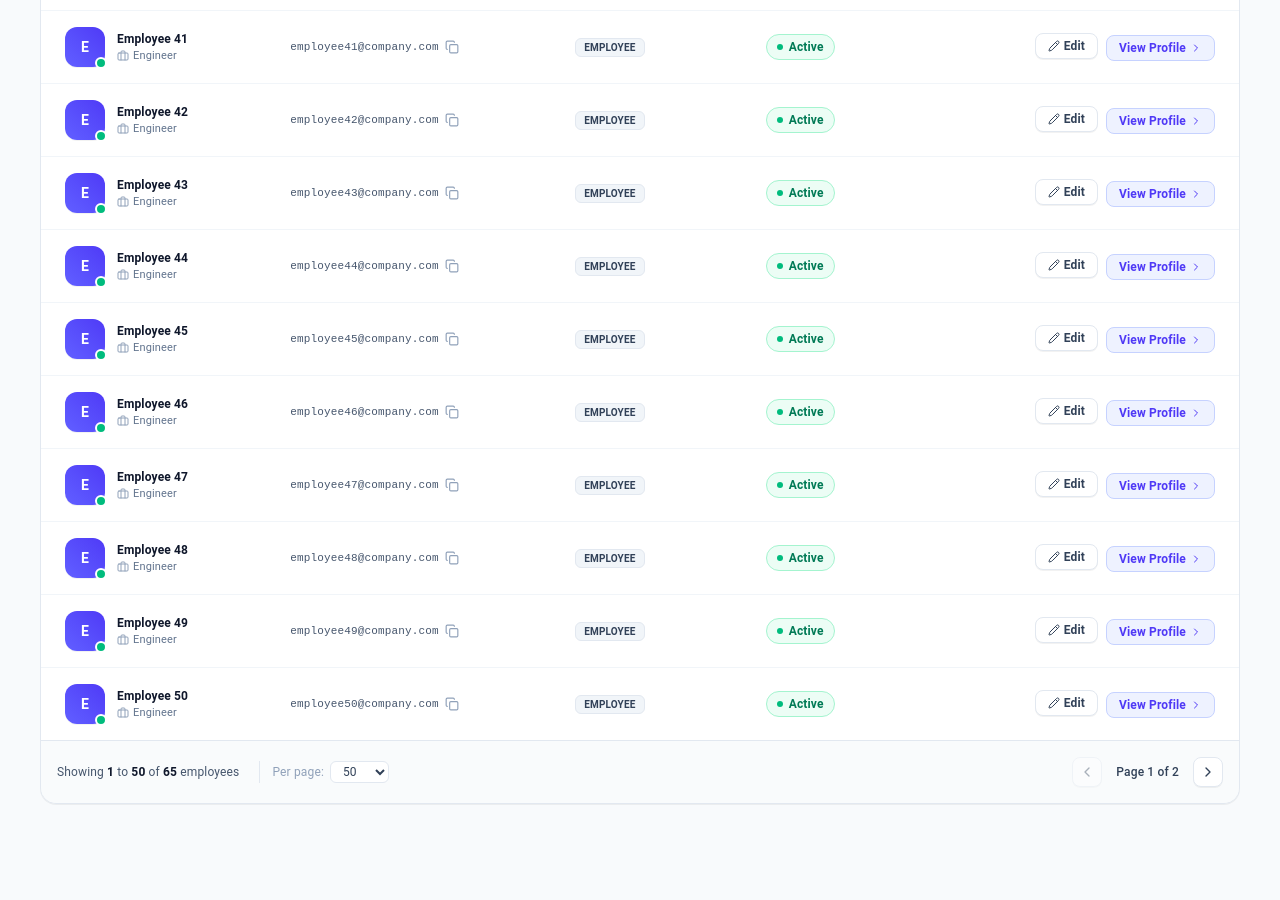
Scenario: EmployeeManagementPage Component › paginates 50 employees per page and navigates between pages
(page scrolled)
Expected: the link "Employee 50" is shown, [117,688,188,704]
Expected: the text "Page 1 of 2" is shown, [1116,765,1179,779]
Note: Click next page
Click the button named "next page": (1208, 772) [1193,757,1223,787]
(page scrolled)
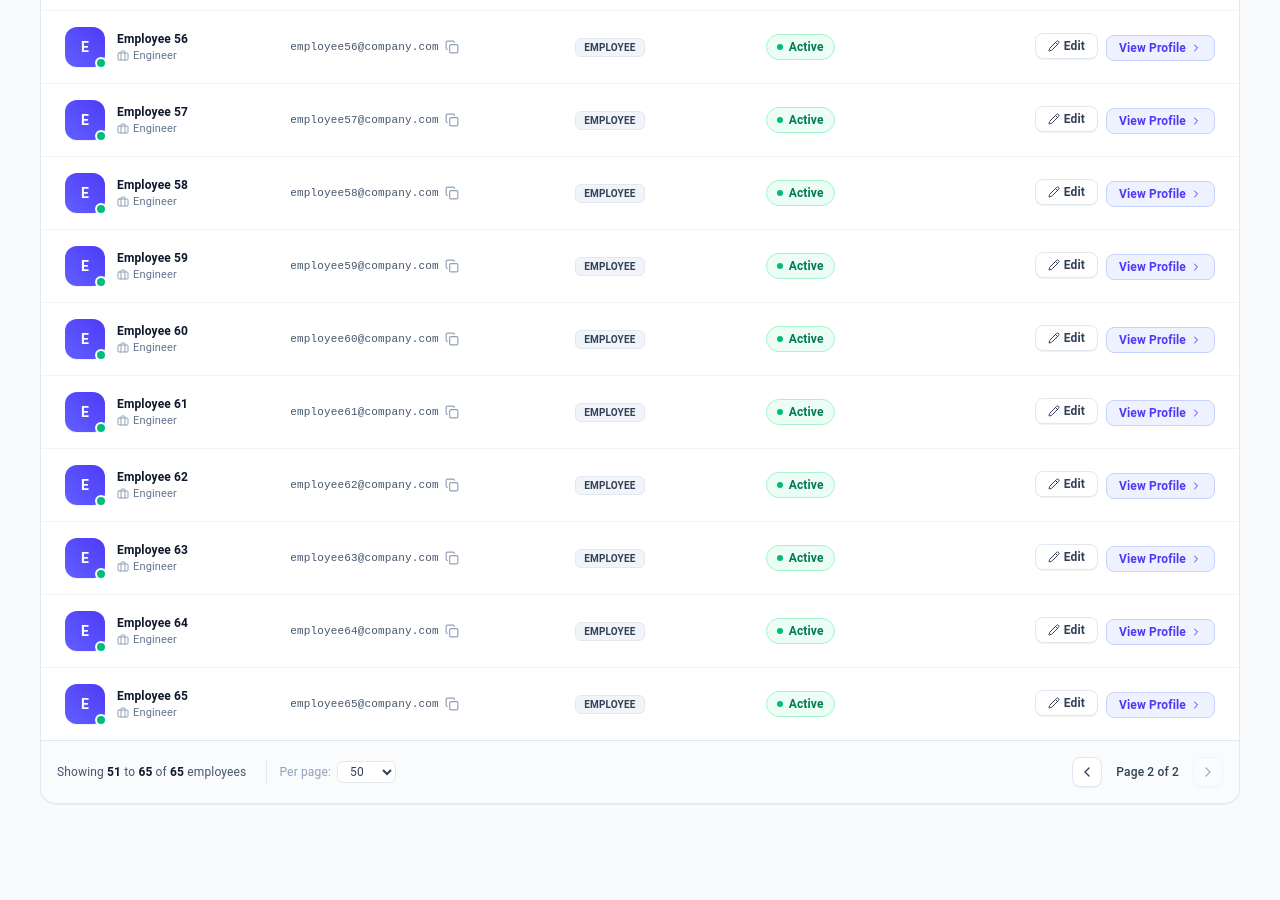
Now the text "Page 2 of 2" is shown, box [1116,765,1179,779]
Now the link "Employee 65" is shown, box [117,688,188,704]
